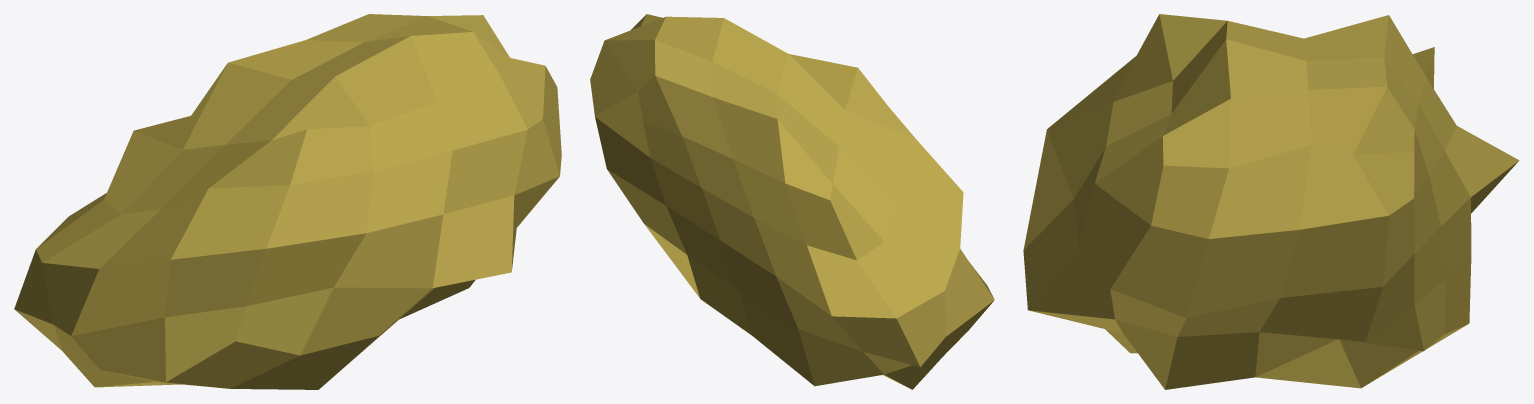
File: pisecnyFloating1.fbx
3 renders of one model, left to right at view 1: azimuth 30°, elevation 25°; view 2: azimuth 150°, elevation 25°; view 3: azimuth 270°, elevation 25°, orthographic. The views are drawn at different scales.
Parts seen in each view (by area): view 1: floatingSandstone; view 2: floatingSandstone; view 3: floatingSandstone.
Boxes of the visible parts, left/top/right/bottom form: floatingSandstone: left=14, top=14, right=561, bottom=389; floatingSandstone: left=590, top=14, right=994, bottom=389; floatingSandstone: left=1023, top=14, right=1519, bottom=389.
Size of the model in its own units: 1389 by 924 by 958.
